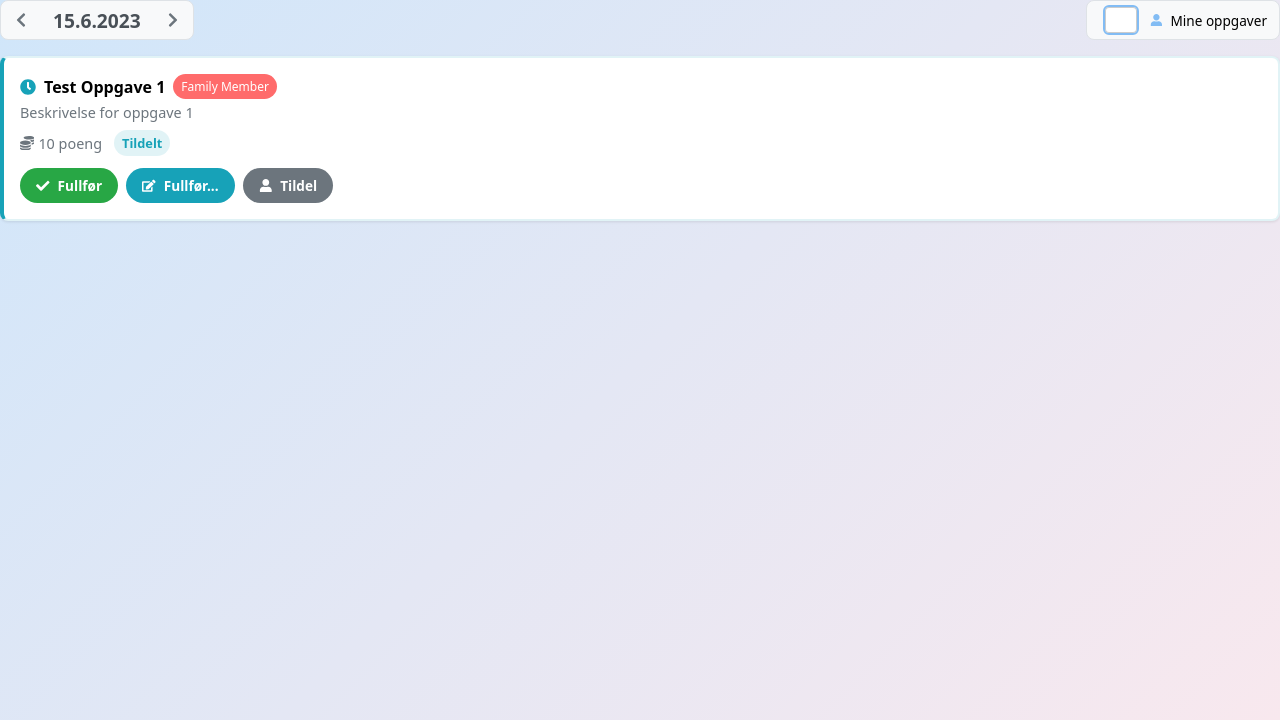
Test: TaskList › Mine oppgaver filter › should show contextual empty state when no tasks are assigned to user
// Click the filter toggle
Click the checkbox.
click(1121, 20)  # box [1103,5,1139,35]
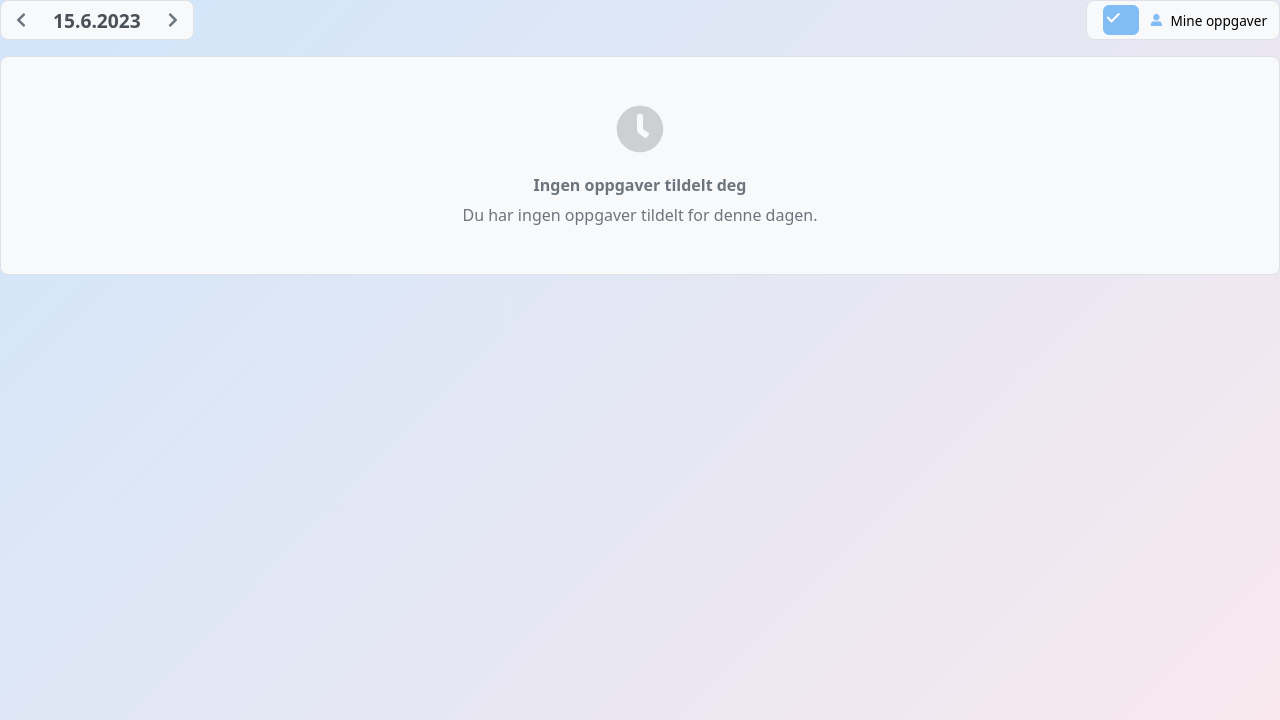
Expected: the heading "Ingen oppgaver tildelt deg" is shown, [534,174,746,196]
Expected: the text "Du har ingen oppgaver tildelt for denne dagen." is shown, [462,204,818,226]
